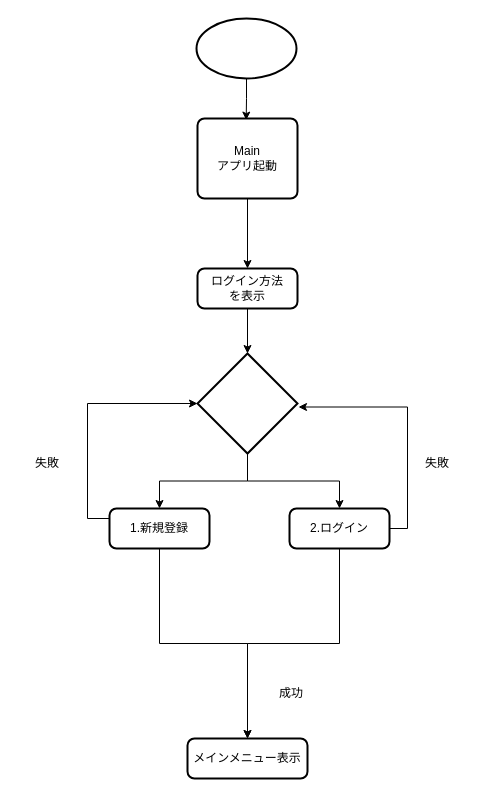
Image size: 484x796. Some labels were removed from this diagram. Here are the shapes that lost their labels. From the top down, the centre of each, then its label:
At pixel 246 48: "開始".
At pixel 247 403: "分岐".
